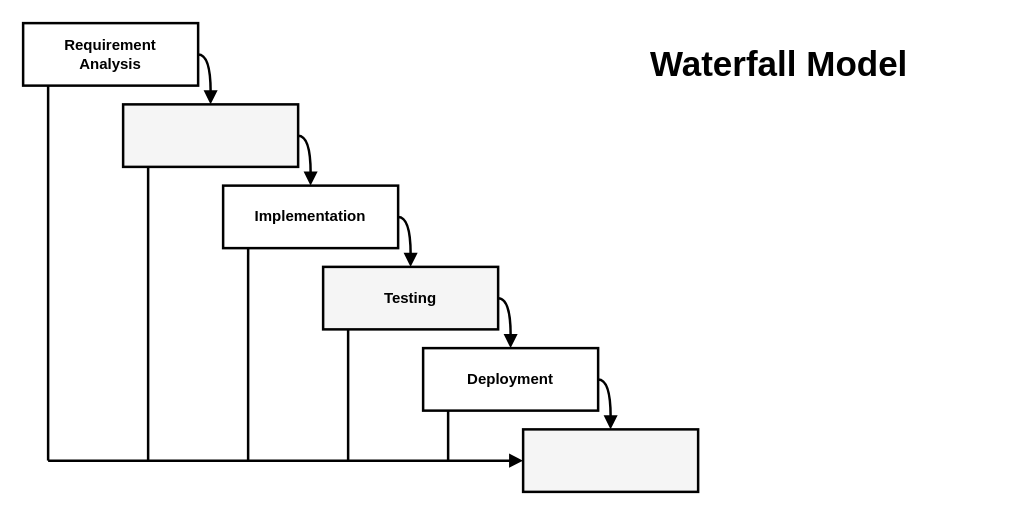
Image size: 1019x514. Some labels were removed from this diagram. The shapes that lost their labels are listed below. From the top down, each one's box as (x1, y1, x2, y2) in pixels, then its label:
(121, 102, 299, 168): Design
(521, 428, 699, 492): Maintenance
